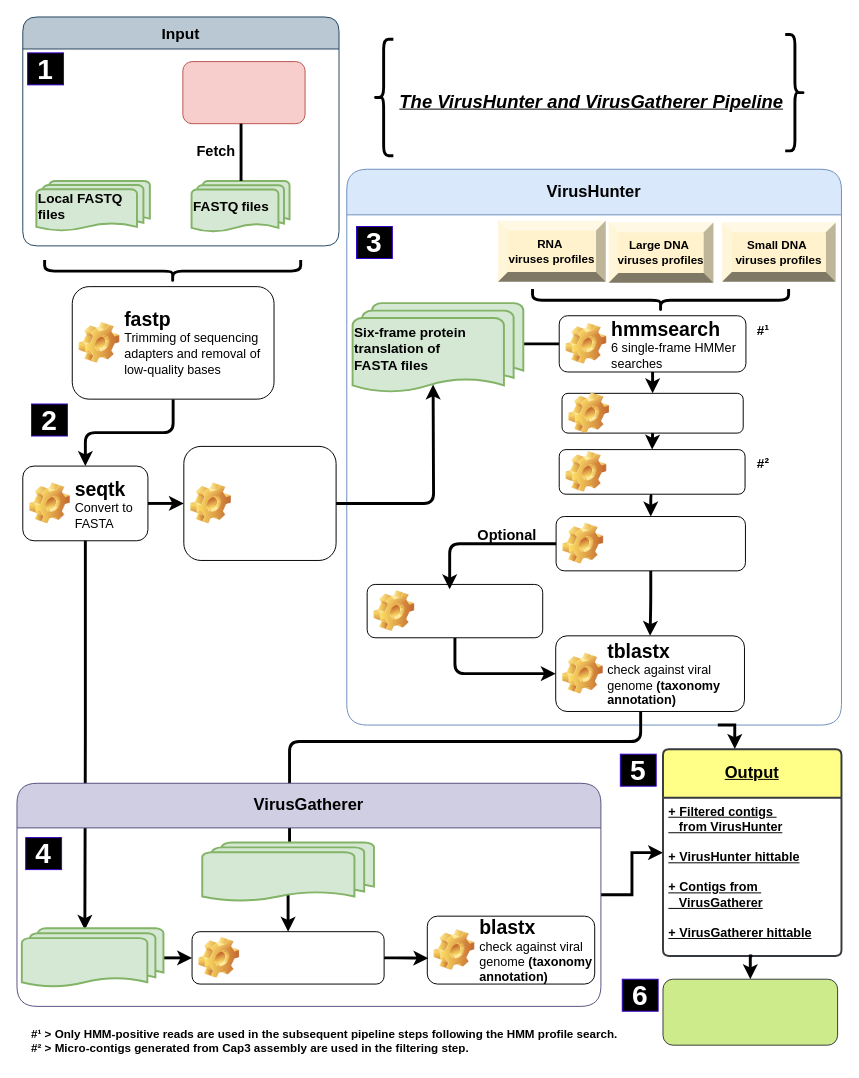
The diagram is 859 pixels wide and 1078 high, and some of its shapes have lost their labels. The centre of each missing label's shape, as x and y in pixels:
"blastn filter against custom contaminant DB" belongs at point (650, 543).
"blastx Filter against non-viral refseq protein" belongs at point (454, 610).
"Cap3 Generate micro-contigs" belongs at point (651, 471).
"FASTA Sequences" belongs at point (92, 957).
"Filtered contigs from VirusHunter" belongs at point (287, 871).
"genseed-hmm Iterative assembly" belongs at point (287, 957).
"List of SRA accessions" belongs at point (243, 92).
"transeq Translate sequences into proteins for all six reading frames" belongs at point (259, 502).
"Virusparies" belongs at point (750, 1011).
"vsearch deduplicate reads" belongs at point (652, 412).
